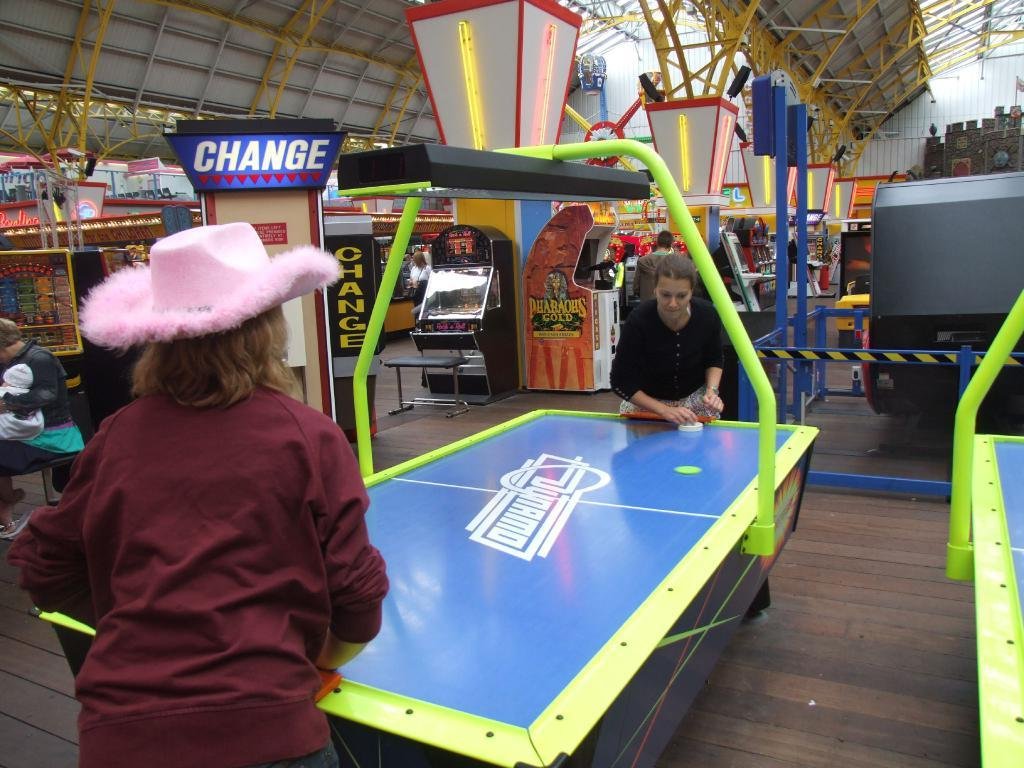Hat: (74, 220, 344, 348), (0, 314, 20, 334)
